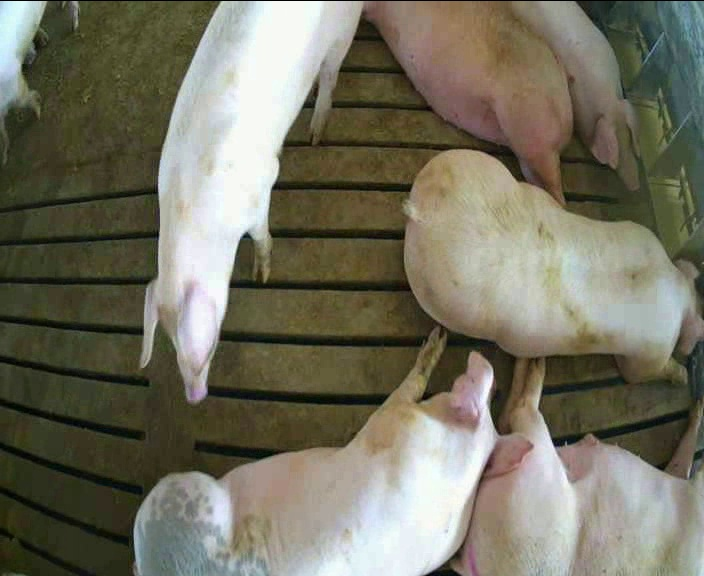pig: (136, 327, 533, 574), (140, 2, 359, 402), (404, 151, 703, 383), (451, 359, 703, 574), (366, 3, 572, 203), (511, 2, 639, 189)
